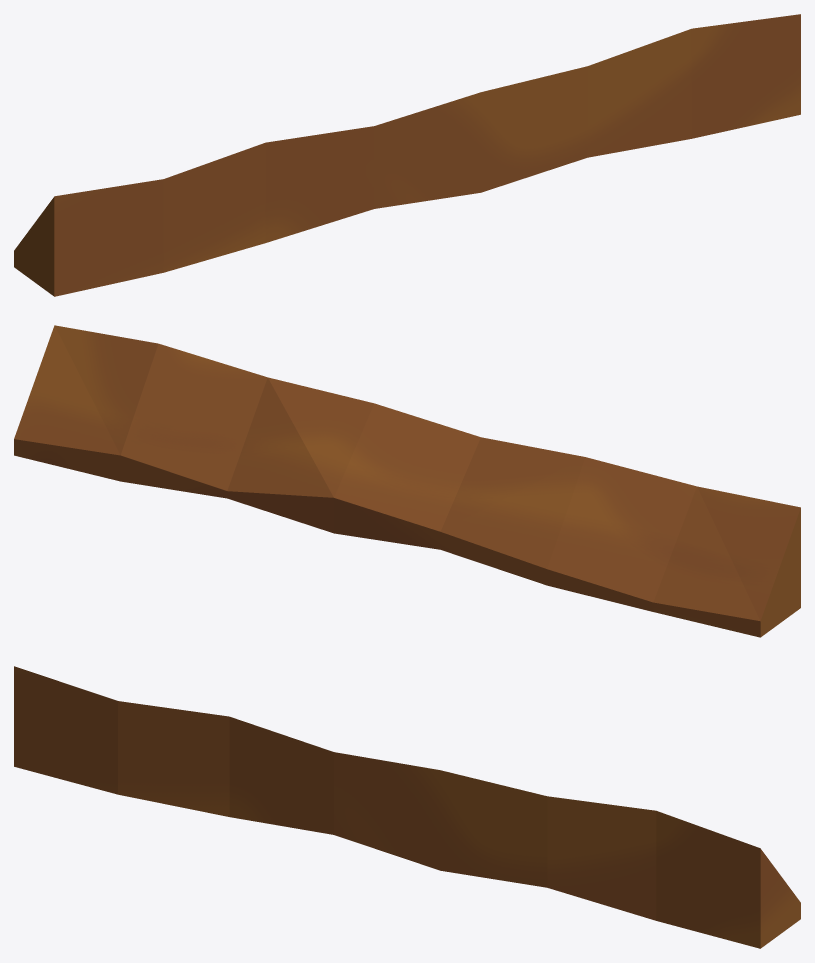
File: RW Pillers 6.fbx
3 renders of one model, top to bottom at view 1: azimuth 30°, elevation 25°; view 2: azimuth 150°, elevation 25°; view 3: azimuth 330°, elevation 25°, orthographic.
Parts seen in each view (by area): view 1: RW Pillers 6; view 2: RW Pillers 6; view 3: RW Pillers 6.
Boxes of the visible parts, bbox=[...] form: RW Pillers 6: bbox=[14, 14, 800, 296]; RW Pillers 6: bbox=[14, 325, 800, 637]; RW Pillers 6: bbox=[14, 666, 800, 948].
Size of the model in its own units: 273 by 38.54 by 27.69.
Materials: 1 (1 with a texture image).
